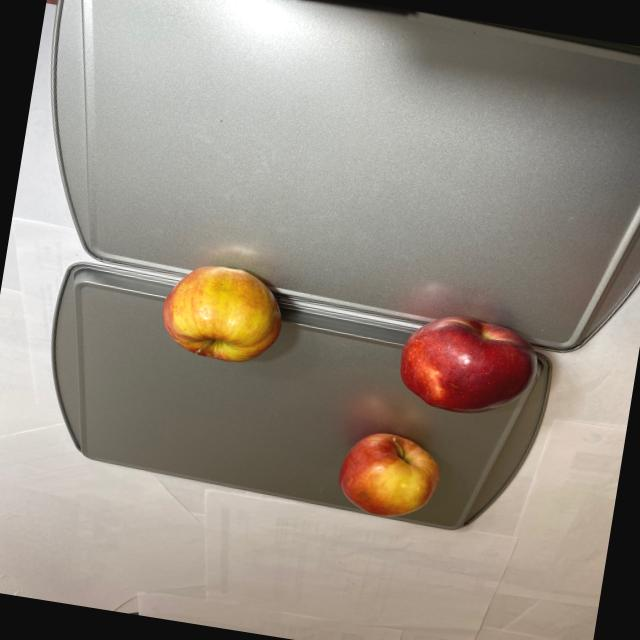apple: (328, 298, 548, 537), (153, 248, 291, 373)
